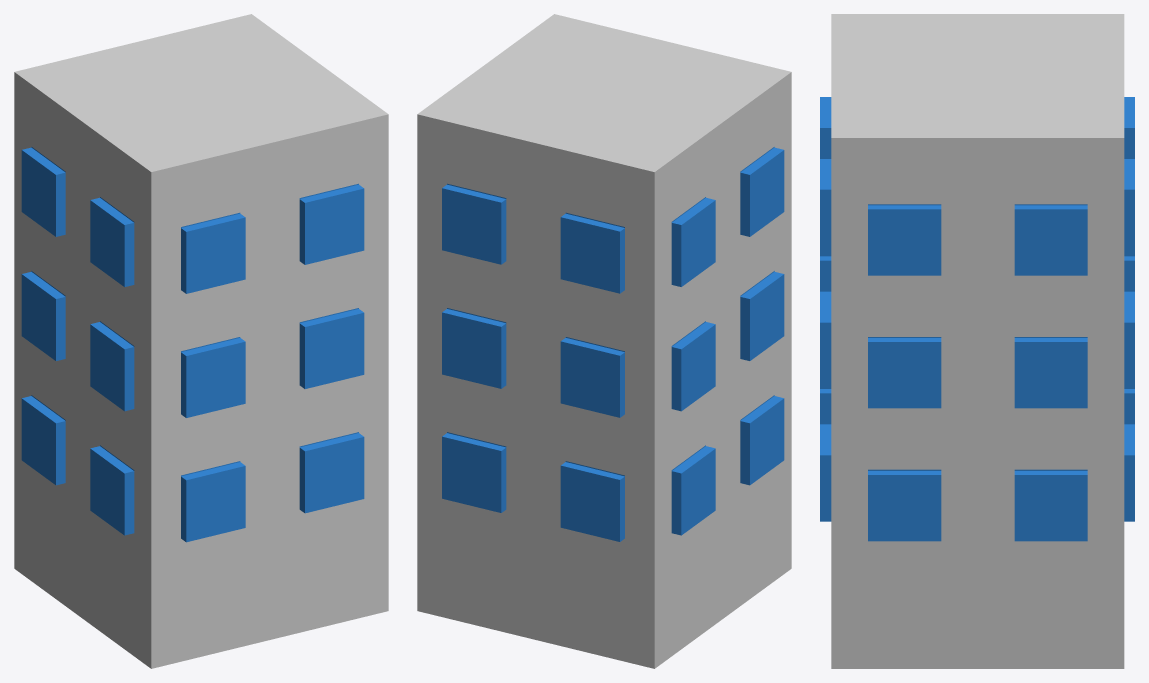
The model's file is baseHighRise.fbx.
3 views of the same model, side by side, from view 1: azimuth 30°, elevation 25°; view 2: azimuth 150°, elevation 25°; view 3: azimuth 270°, elevation 25° (orthographic). The views are drawn at different scales.
Visible parts, largest first — view 1: Cube; view 2: Cube; view 3: Cube.
Boxes of the visible parts, x1,y1,x2,y2 form: Cube: (14, 14, 388, 668); Cube: (417, 14, 791, 668); Cube: (820, 14, 1134, 668).
Bounding box in the file's own units: 215 × 400 × 215.
